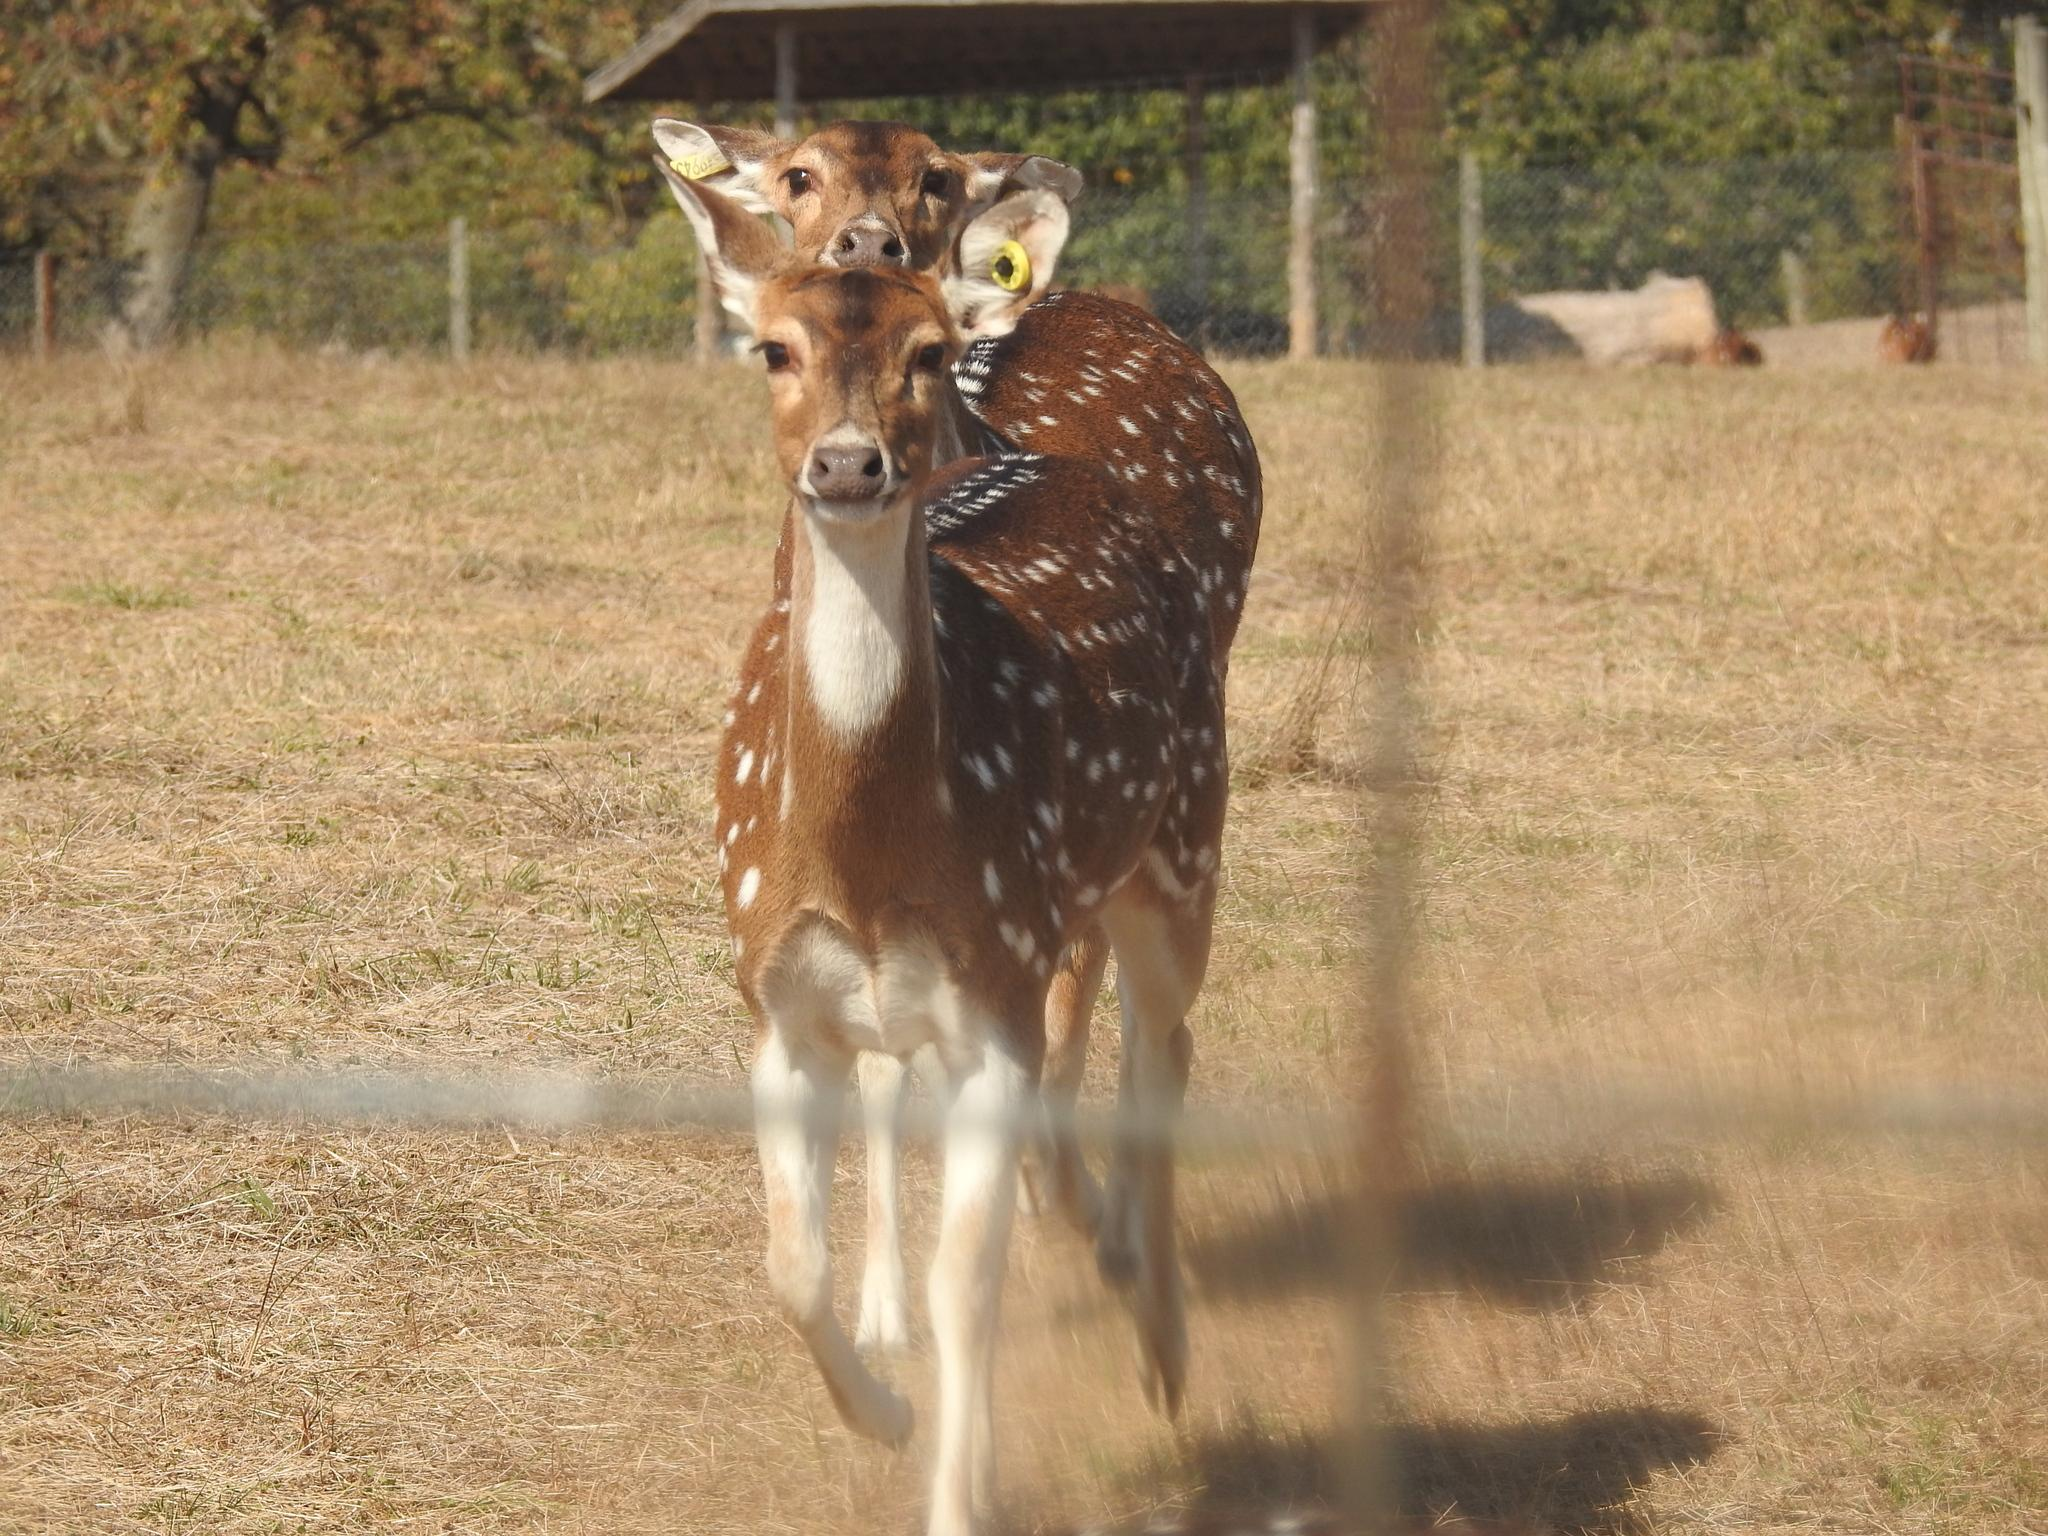Deer: (670, 174, 1226, 1535), (652, 117, 1261, 709)
